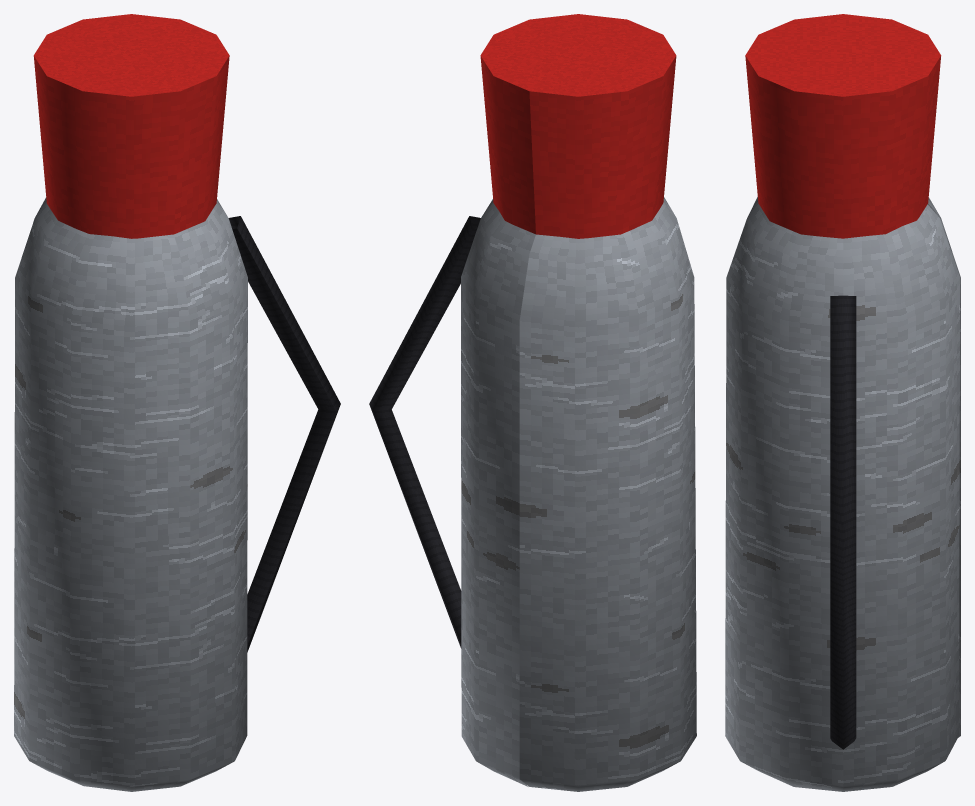
The model's file is item_thermos.glb.
The picture shows the model from 3 angles, left to right: view 1: azimuth 30°, elevation 25°; view 2: azimuth 150°, elevation 25°; view 3: azimuth 270°, elevation 25°; orthographic projection.
Visible parts, largest first — view 1: item_thermos; view 2: item_thermos; view 3: item_thermos.
Part boxes in pixels (x1,y1,x2,y2): item_thermos: (14, 14, 340, 791); item_thermos: (369, 14, 696, 791); item_thermos: (725, 14, 960, 791).
Size of the model in its own units: 0.1102 by 0.235 by 0.0722.
Materials: 3 (3 with a texture image).
